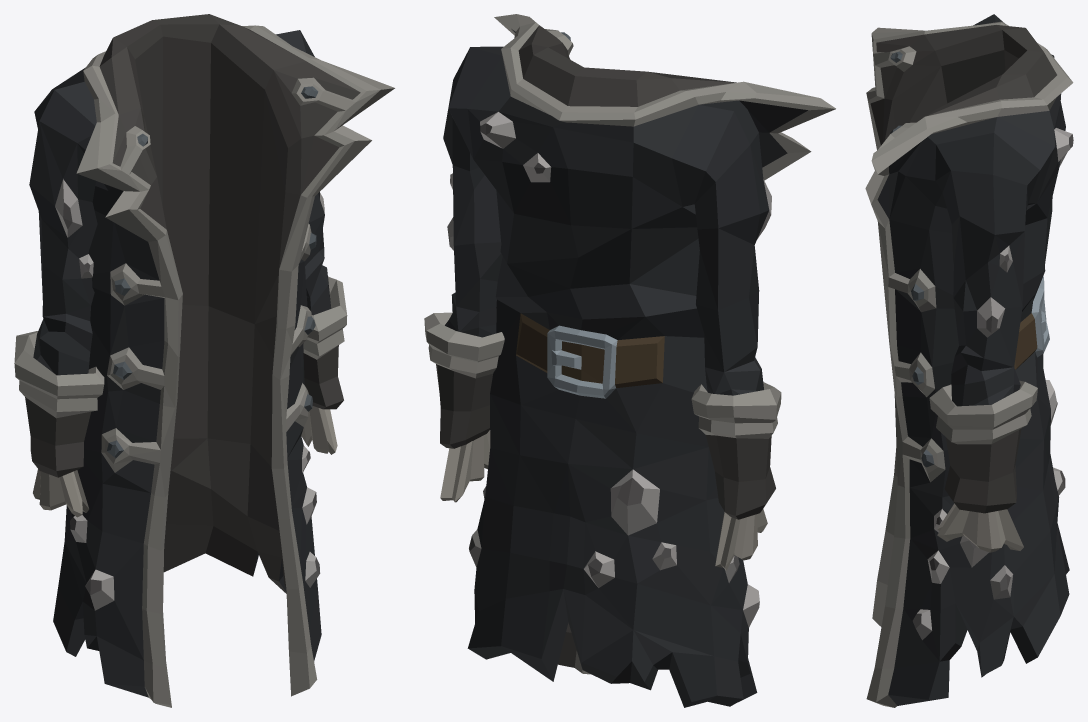
The model's file is SM_Prop_Mannequin_01_Insert_01.fbx.
3 renders of one model, left to right at view 1: azimuth 30°, elevation 25°; view 2: azimuth 150°, elevation 25°; view 3: azimuth 270°, elevation 25°, orthographic. The views are drawn at different scales.
Parts seen in each view (by area): view 1: SM_Prop_Mannequin_01_Insert_01; view 2: SM_Prop_Mannequin_01_Insert_01; view 3: SM_Prop_Mannequin_01_Insert_01.
Part boxes in pixels (<box>): SM_Prop_Mannequin_01_Insert_01: <box>14,14,394,707</box>; SM_Prop_Mannequin_01_Insert_01: <box>424,14,835,707</box>; SM_Prop_Mannequin_01_Insert_01: <box>865,14,1073,707</box>.
Bounding box in the file's own units: 58.51 × 108 × 32.42.
